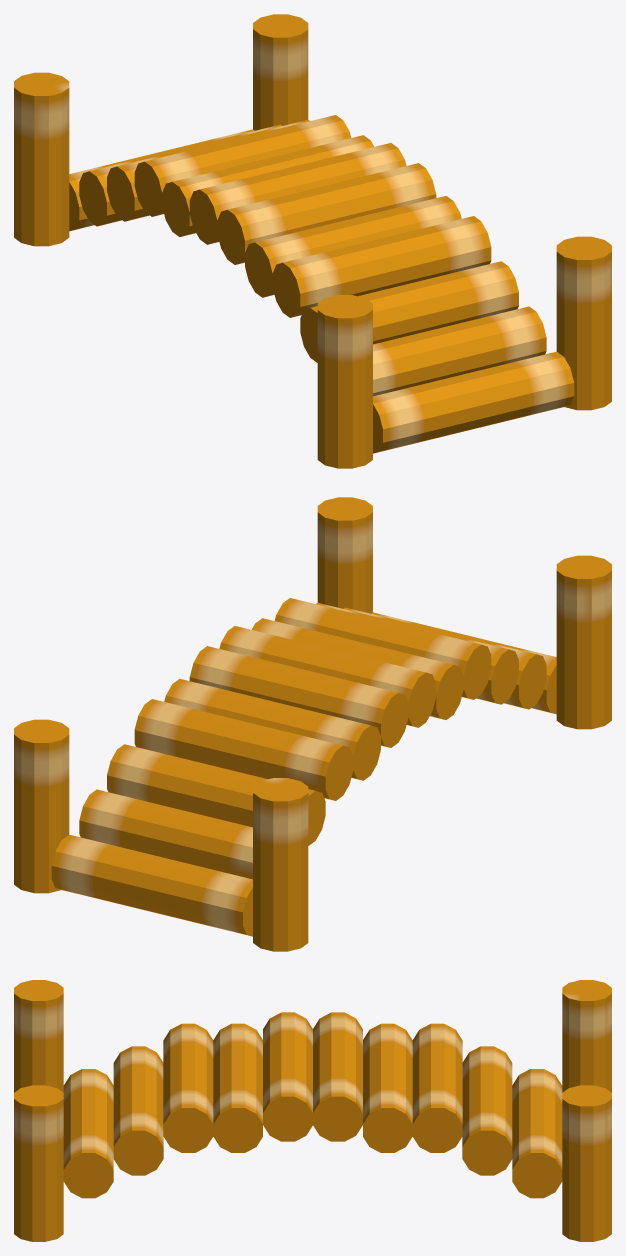
Rendered from Bridge.fbx.
The picture shows the model from 3 angles, top to bottom: view 1: azimuth 30°, elevation 25°; view 2: azimuth 150°, elevation 25°; view 3: azimuth 270°, elevation 25°; orthographic projection. The views are drawn at different scales.
Parts seen in each view (by area): view 1: cylinder; view 2: cylinder; view 3: cylinder.
Boxes of the visible parts, left/top/right/bottom form: cylinder: left=14, top=14, right=611, bottom=468; cylinder: left=14, top=497, right=611, bottom=951; cylinder: left=14, top=980, right=611, bottom=1241.
Size of the model in its own units: 150 by 75 by 300.
Materials: 1 (1 with a texture image).
